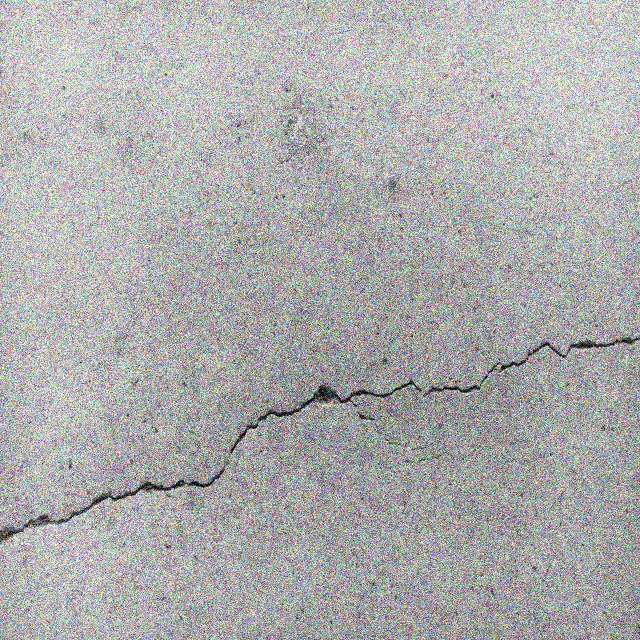SurfaceCrack: (1, 288, 640, 554)
